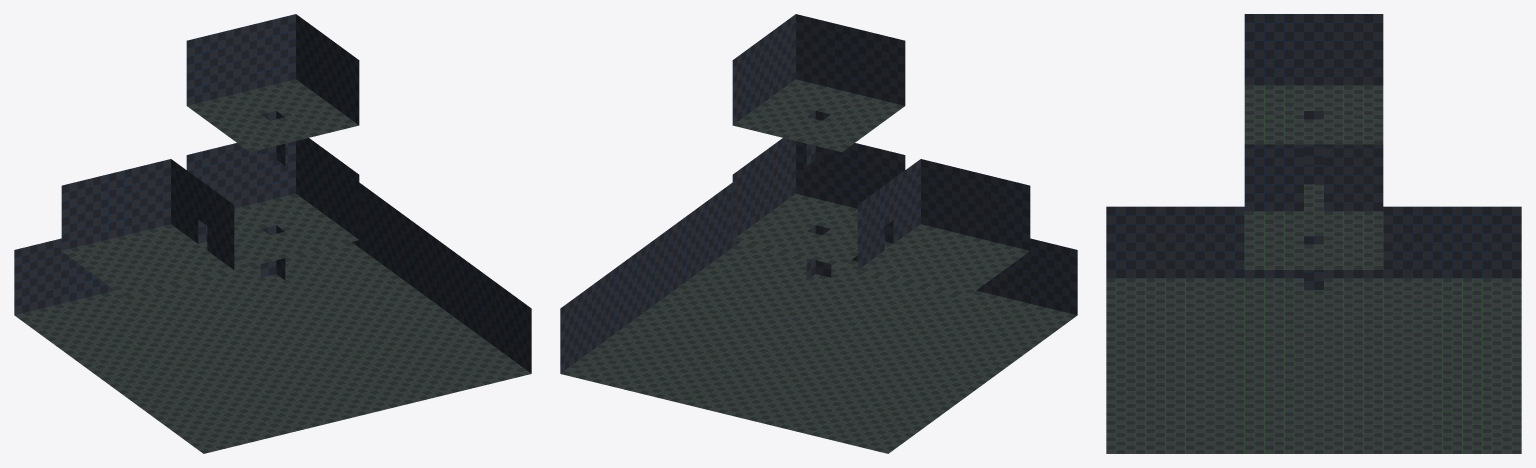
File: Body Demo.glb
The picture shows the model from 3 angles, left to right: view 1: azimuth 30°, elevation 25°; view 2: azimuth 150°, elevation 25°; view 3: azimuth 270°, elevation 25°; orthographic projection. The views are drawn at different scales.
Parts seen in each view (by area): view 1: Visible Mesh; view 2: Visible Mesh; view 3: Visible Mesh.
Boxes of the visible parts, x1=… form: Visible Mesh: x1=14, y1=14, x2=531, y2=453; Visible Mesh: x1=560, y1=14, x2=1077, y2=453; Visible Mesh: x1=1106, y1=14, x2=1521, y2=453.
Size of what is drawn, in the model's own units: 44 by 36 by 42.
Materials: 3 (3 with a texture image).
